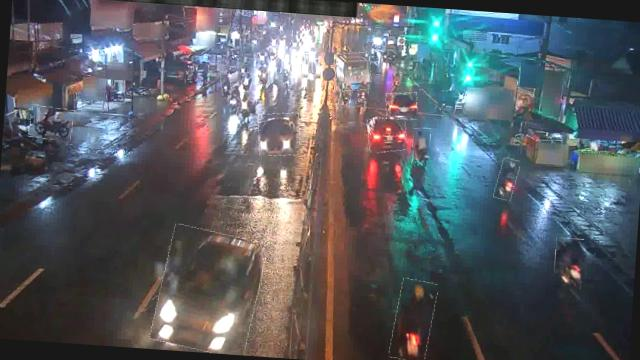Bike: (389, 278, 436, 360), (554, 238, 584, 289), (29, 106, 74, 140), (494, 158, 518, 200), (235, 90, 258, 124), (410, 127, 430, 166), (226, 84, 242, 111), (338, 82, 352, 108), (219, 71, 232, 96), (357, 82, 369, 104), (258, 66, 268, 86), (242, 72, 252, 90)
Bus: (332, 52, 372, 93)
Car: (152, 226, 264, 356), (256, 111, 300, 157), (366, 115, 407, 154), (385, 90, 418, 121)
